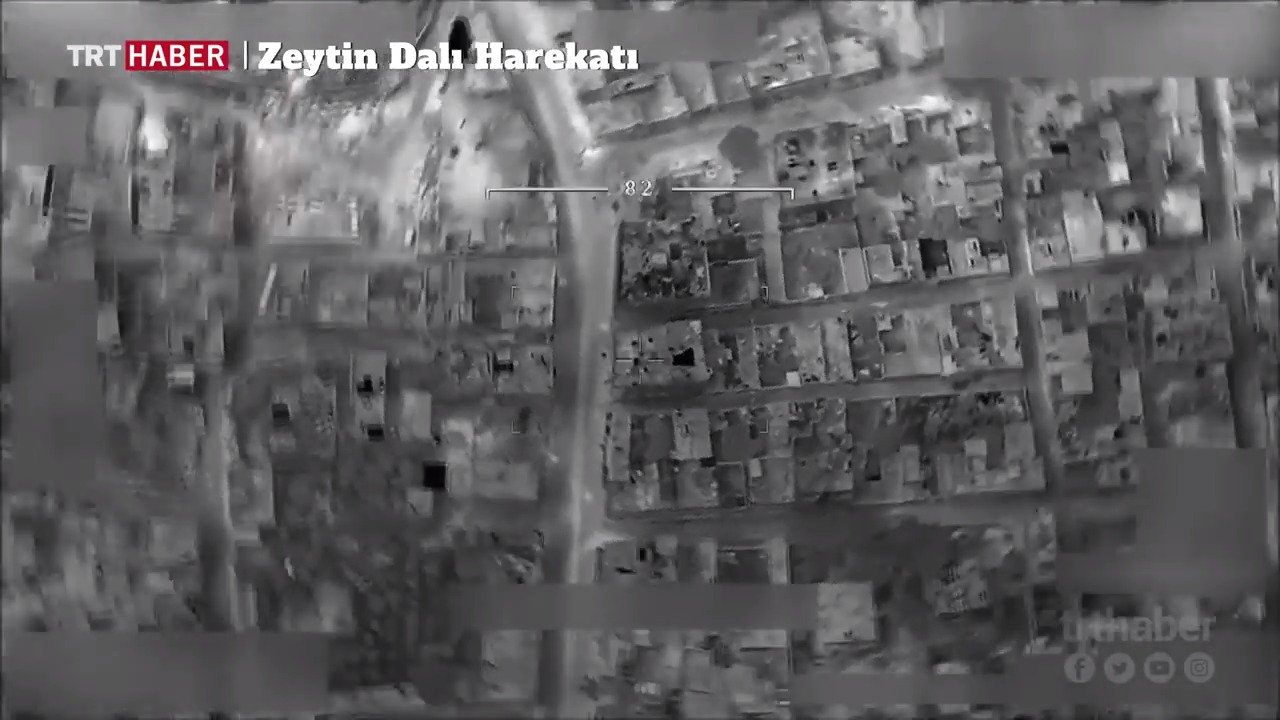bina: (777, 205, 893, 302), (770, 111, 880, 199)
